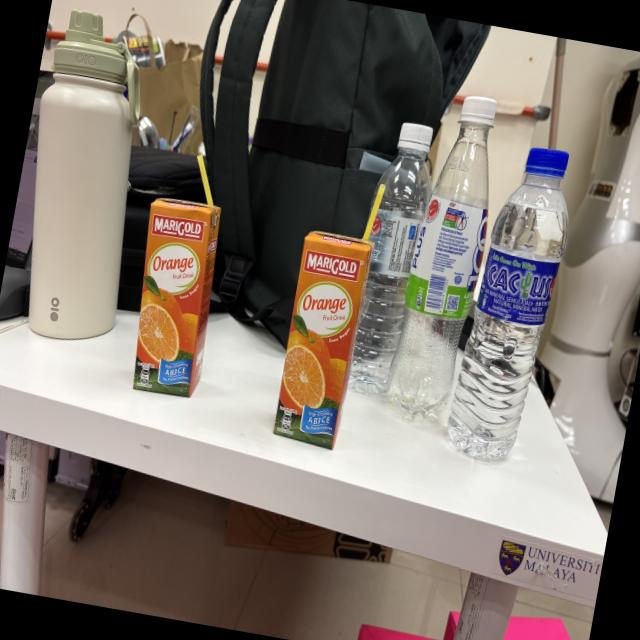drink_carton: (265, 165, 391, 455), (113, 142, 244, 406)
plastic_bottle: (436, 122, 584, 490), (377, 80, 515, 434), (334, 109, 454, 412)
